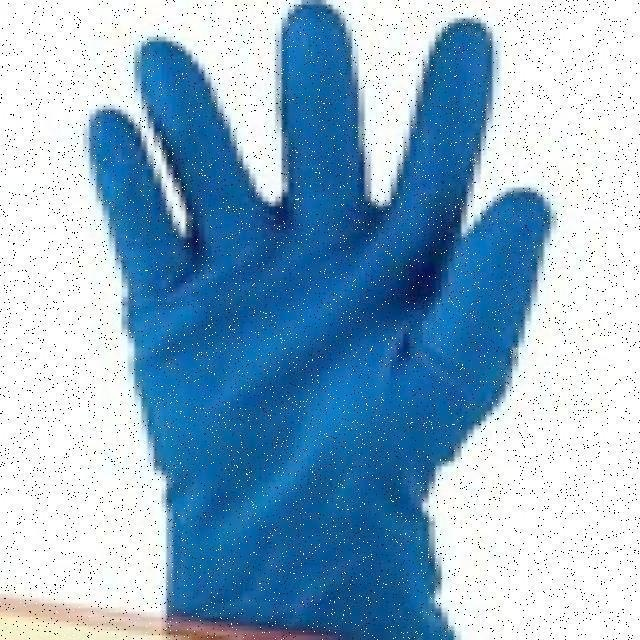Guantes: (87, 4, 551, 639)
